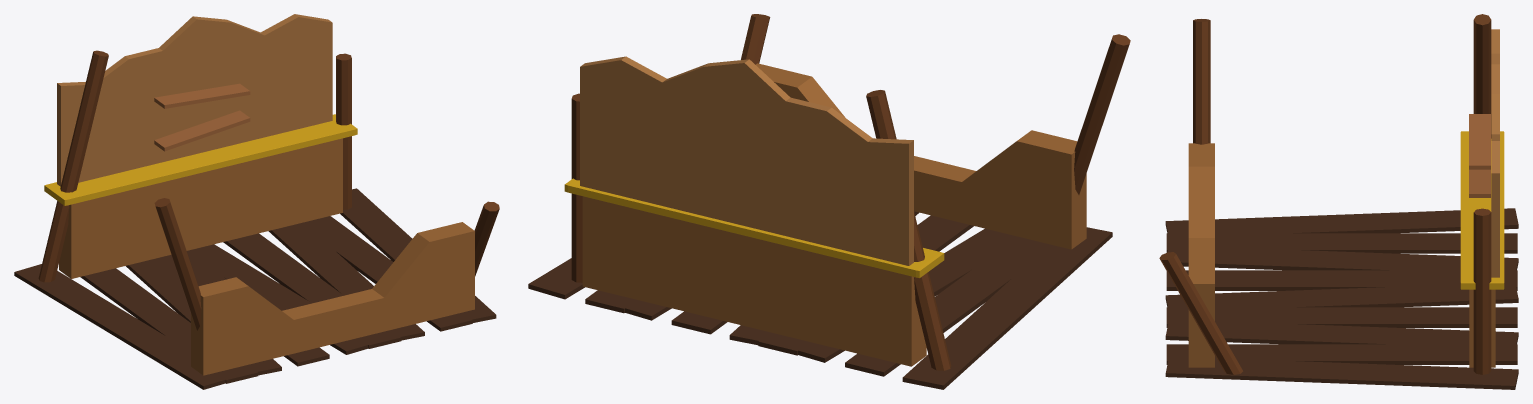
The model's file is BarRuins.fbx.
3 views of the same model, side by side, from view 1: azimuth 30°, elevation 25°; view 2: azimuth 150°, elevation 25°; view 3: azimuth 270°, elevation 25° (orthographic). The views are drawn at different scales.
Parts seen in each view (by area): view 1: drinkbaruin; view 2: drinkbaruin; view 3: drinkbaruin.
Boxes of the visible parts, <box> form: drinkbaruin: <box>14,14,499,389</box>; drinkbaruin: <box>528,14,1130,389</box>; drinkbaruin: <box>1159,14,1518,389</box>.
Size of the model in its own units: 4.88 by 3.01 by 4.1.
Materials: 1 (1 with a texture image).
